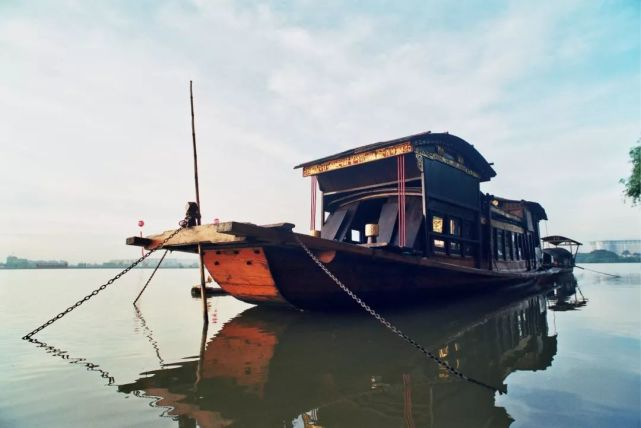otherboat: (115, 127, 578, 311)
